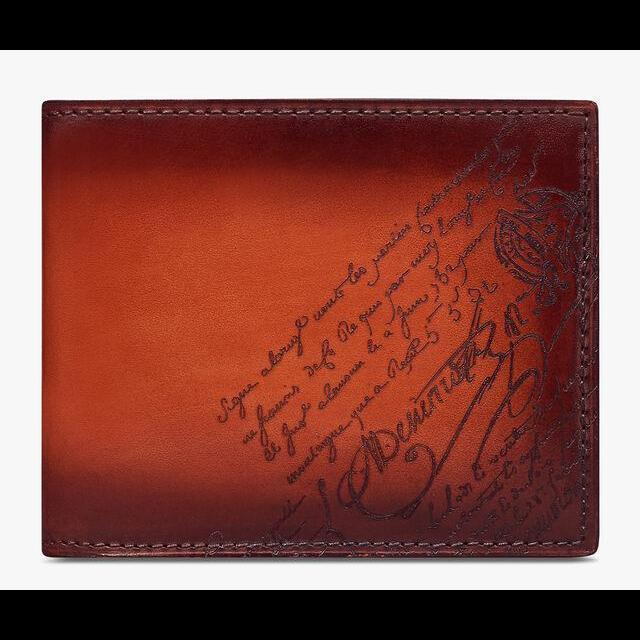wallet: (36, 92, 602, 560)
